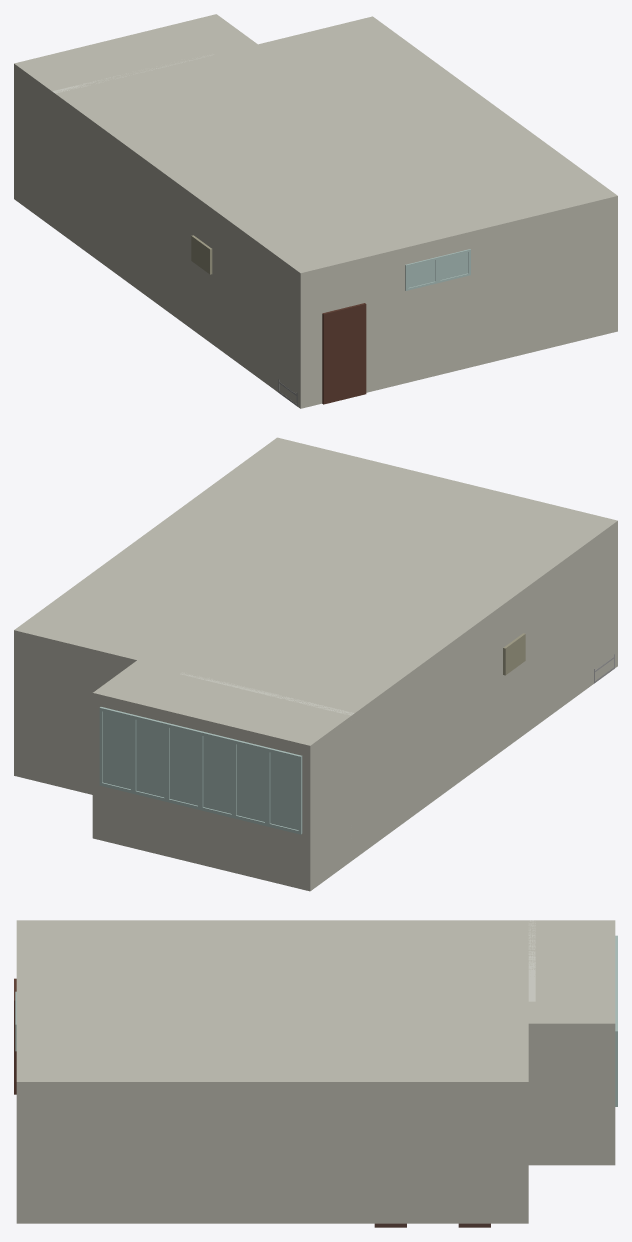
The model's file is room_prototype.fbx.
The picture shows the model from 3 angles, top to bottom: view 1: azimuth 30°, elevation 25°; view 2: azimuth 150°, elevation 25°; view 3: azimuth 270°, elevation 25°; orthographic projection. The views are drawn at different scales.
Visible parts, largest first — view 1: non_interactive; view 2: non_interactive; view 3: non_interactive.
Part boxes in pixels (<box>): non_interactive: <box>14,14,617,408</box>; non_interactive: <box>14,437,617,891</box>; non_interactive: <box>14,920,617,1227</box>.
Size of the model in its own units: 7.4 by 3.1 by 11.6.
